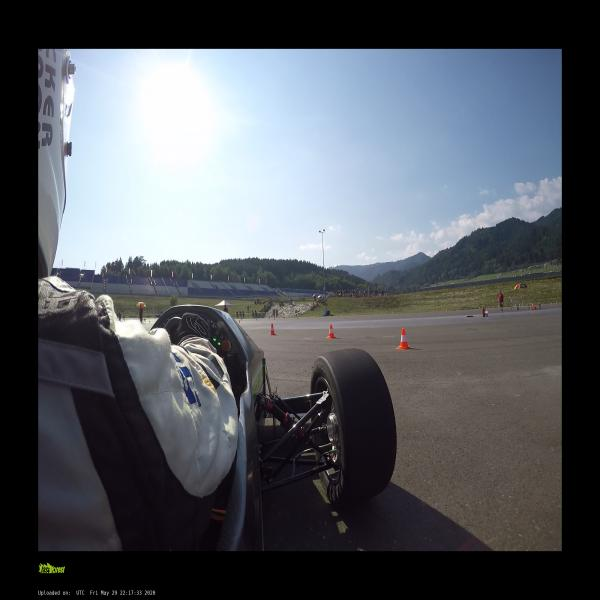orange_cone: (398, 328, 410, 349), (327, 324, 336, 338), (269, 323, 276, 335)
